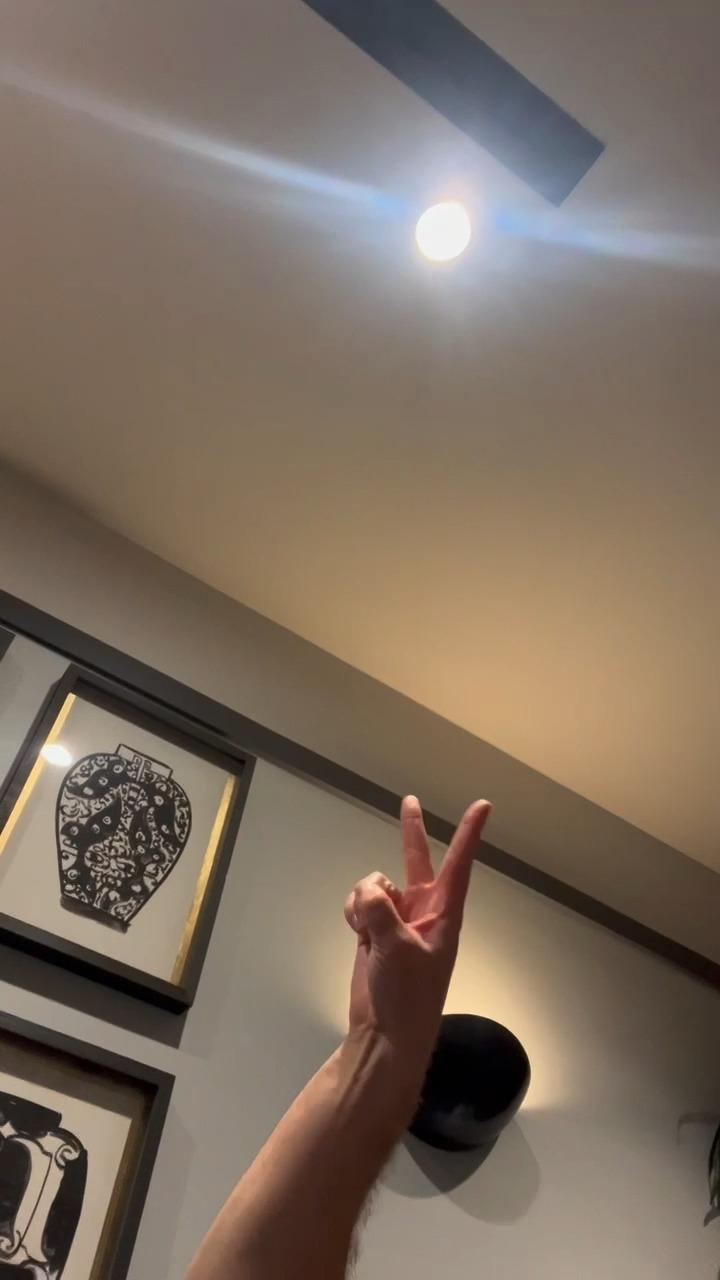Scissors: (338, 794, 492, 1064)
